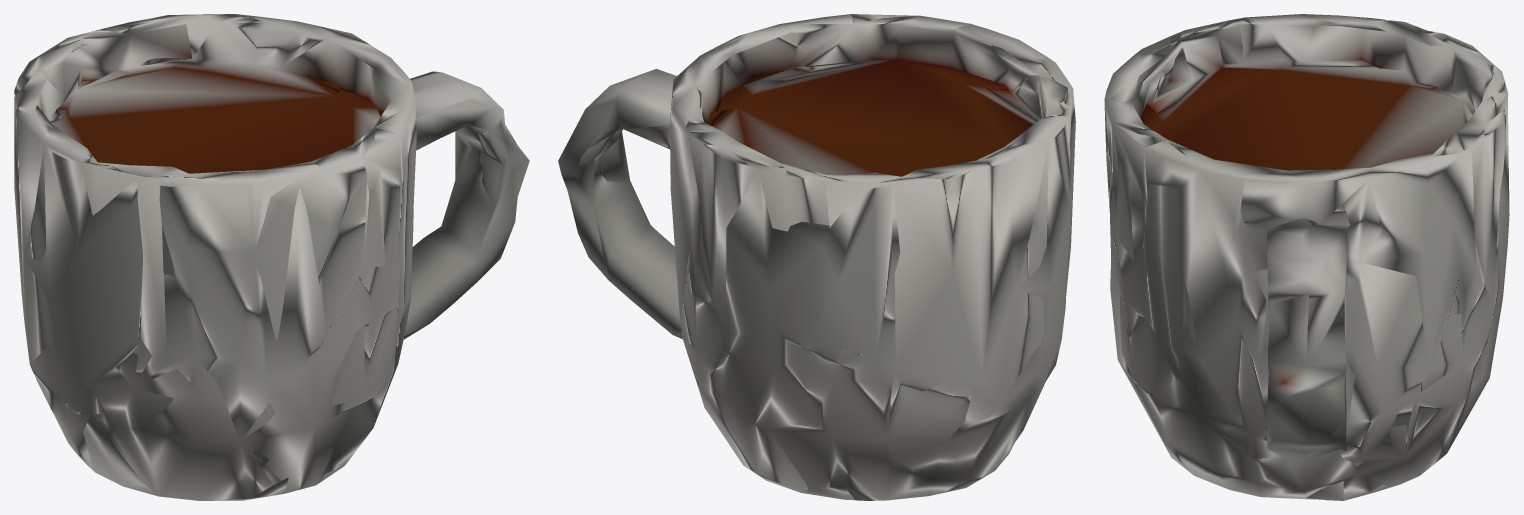
File: gen3d-coffee-cup-lod0.glb
3 renders of one model, left to right at view 1: azimuth 30°, elevation 25°; view 2: azimuth 150°, elevation 25°; view 3: azimuth 270°, elevation 25°, orthographic.
Parts seen in each view (by area): view 1: part_0; view 2: part_0; view 3: part_0.
Boxes of the visible parts, <box> form: part_0: <box>14,14,529,500</box>; part_0: <box>558,14,1075,500</box>; part_0: <box>1104,14,1509,500</box>.
Size of the model in its own units: 1.43 by 0.9994 by 1.05.
